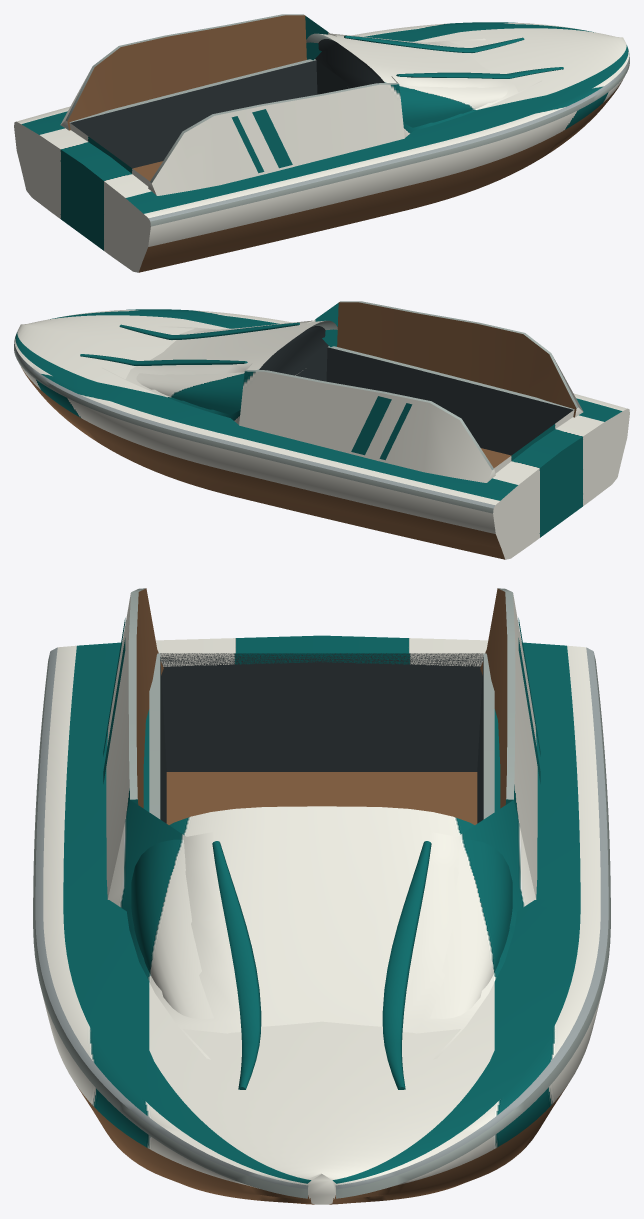
The model's file is Hull_12_R_碧線・剪断.glb.
3 renders of one model, top to bottom at view 1: azimuth 30°, elevation 25°; view 2: azimuth 150°, elevation 25°; view 3: azimuth 270°, elevation 25°, orthographic. The views are drawn at different scales.
Visible parts, largest first — view 1: Hull_12_R; view 2: Hull_12_R; view 3: Hull_12_R.
Boxes of the visible parts, <box> form: Hull_12_R: <box>14,14,629,272</box>; Hull_12_R: <box>14,301,629,559</box>; Hull_12_R: <box>33,588,610,1204</box>.
Size of the model in its own units: 2.9 by 0.6856 by 1.34.
Materials: 4 (4 with a texture image).
